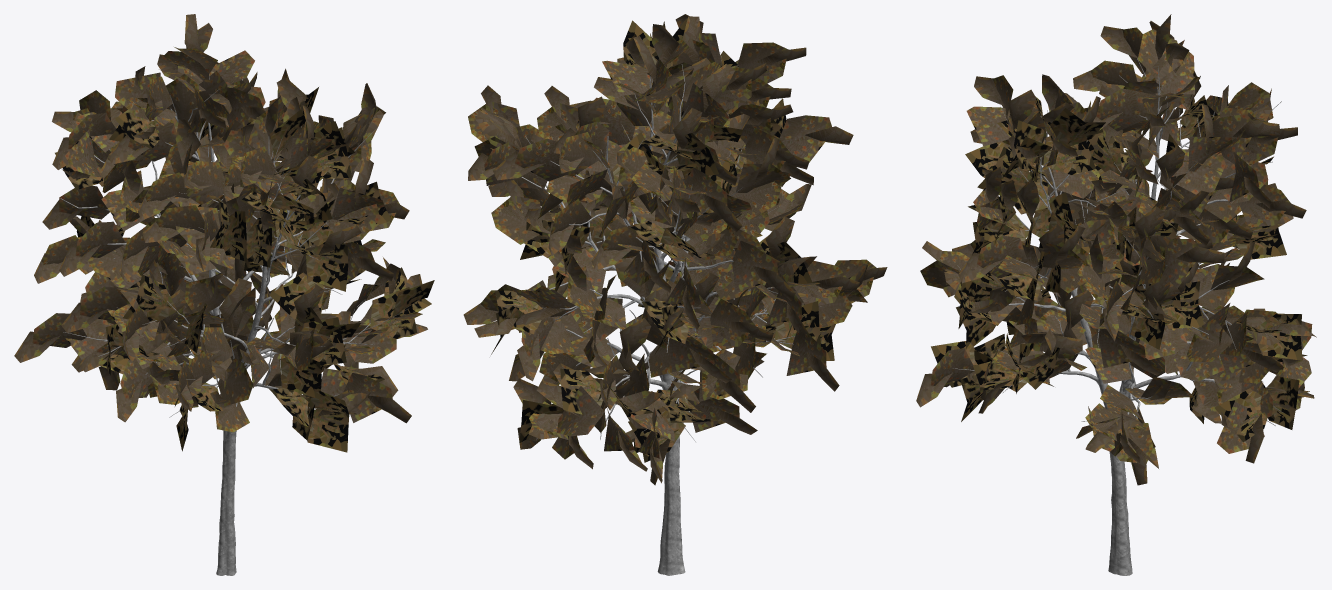
File: SM_Alder_Fall_01b.fbx
3 renders of one model, left to right at view 1: azimuth 30°, elevation 25°; view 2: azimuth 150°, elevation 25°; view 3: azimuth 270°, elevation 25°, orthographic. The views are drawn at different scales.
Visible parts, largest first — view 1: SM_Alder_Fall_01b_LOD0; view 2: SM_Alder_Fall_01b_LOD0; view 3: SM_Alder_Fall_01b_LOD0.
Part boxes in pixels (box(x1,y1,x2,y2)): SM_Alder_Fall_01b_LOD0: box(14, 14, 434, 575); SM_Alder_Fall_01b_LOD0: box(463, 14, 887, 575); SM_Alder_Fall_01b_LOD0: box(916, 14, 1316, 575).
Size of the model in its own units: 1656 by 1514 by 2283.
